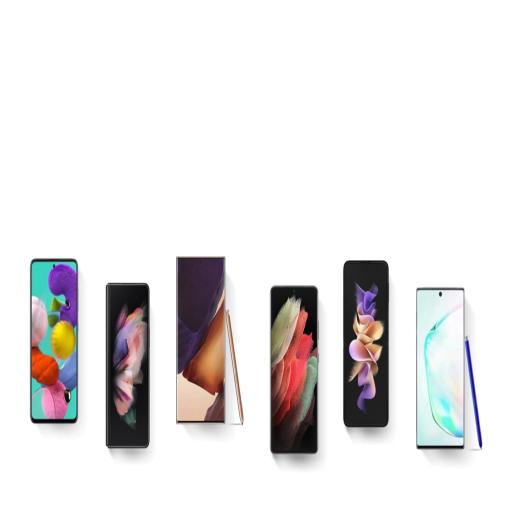phone: (412, 281, 466, 464)
